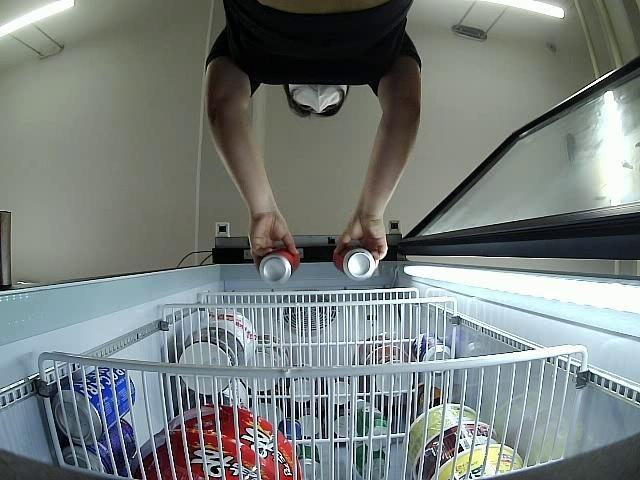11_cocaColaZero: (257, 246, 300, 286), (332, 243, 376, 281)
